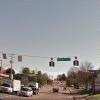Traffic light: (45, 55, 81, 72)
